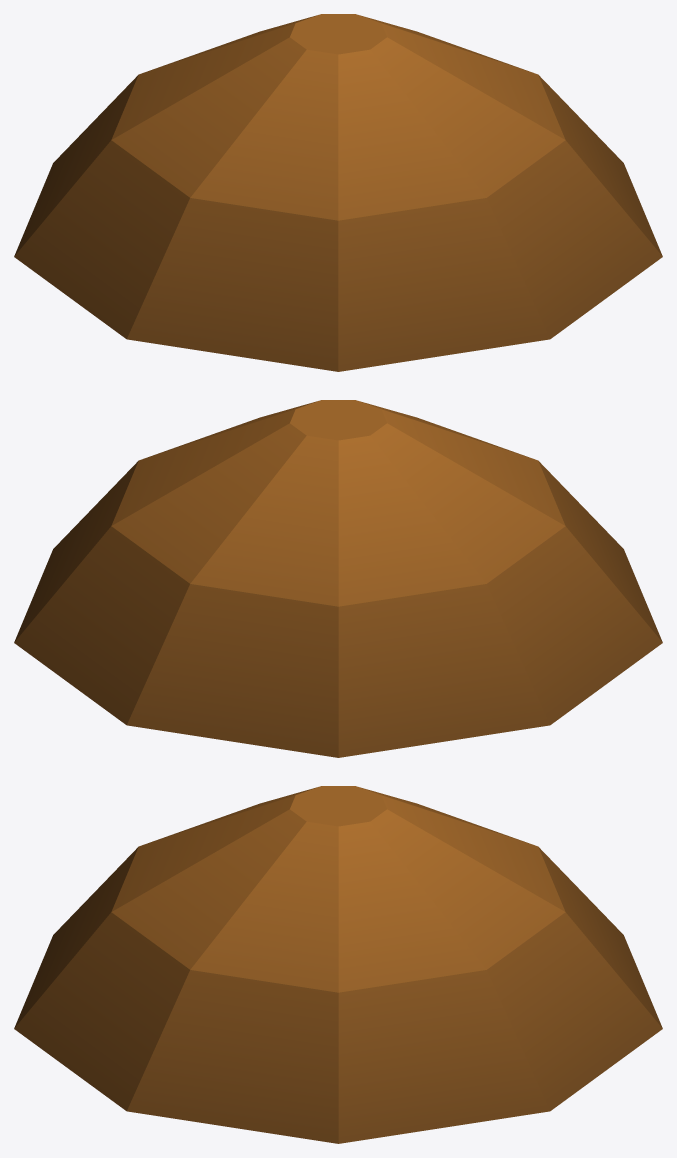
File: yumako-mash.glb
The picture shows the model from 3 angles, top to bottom: view 1: azimuth 30°, elevation 25°; view 2: azimuth 150°, elevation 25°; view 3: azimuth 270°, elevation 25°; orthographic projection.
Parts seen in each view (by area): view 1: yumako-mash; view 2: yumako-mash; view 3: yumako-mash.
Part boxes in pixels (left/top/right/bottom): yumako-mash: left=14, top=14, right=662, bottom=371; yumako-mash: left=14, top=400, right=662, bottom=757; yumako-mash: left=14, top=786, right=662, bottom=1143.
Bounding box in the file's own units: 0.2328 × 0.08 × 0.2364.
